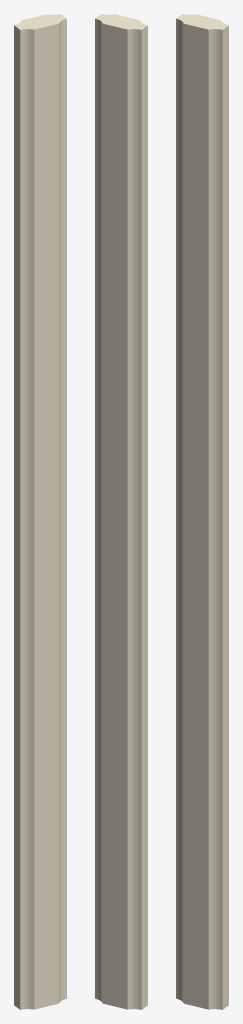
Rendered from original-29.obj.
The picture shows the model from 3 angles, left to right: view 1: azimuth 30°, elevation 25°; view 2: azimuth 150°, elevation 25°; view 3: azimuth 330°, elevation 25°; orthographic projection.
Parts seen in each view (by area): view 1: _1_16_GRID_V1/_1_16_GRID_V/mesh266/mesh266-geometry#mesh266-geom; view 2: _1_16_GRID_V1/_1_16_GRID_V/mesh266/mesh266-geometry#mesh266-geom; view 3: _1_16_GRID_V1/_1_16_GRID_V/mesh266/mesh266-geometry#mesh266-geom.
Part boxes in pixels (x1,y1,x2,y2): _1_16_GRID_V1/_1_16_GRID_V/mesh266/mesh266-geometry#mesh266-geom: (14,14,66,1009); _1_16_GRID_V1/_1_16_GRID_V/mesh266/mesh266-geometry#mesh266-geom: (95,14,147,1009); _1_16_GRID_V1/_1_16_GRID_V/mesh266/mesh266-geometry#mesh266-geom: (176,14,228,1009).
Bounding box in the file's own units: 0.0346 × 0.6961 × 0.0163.
